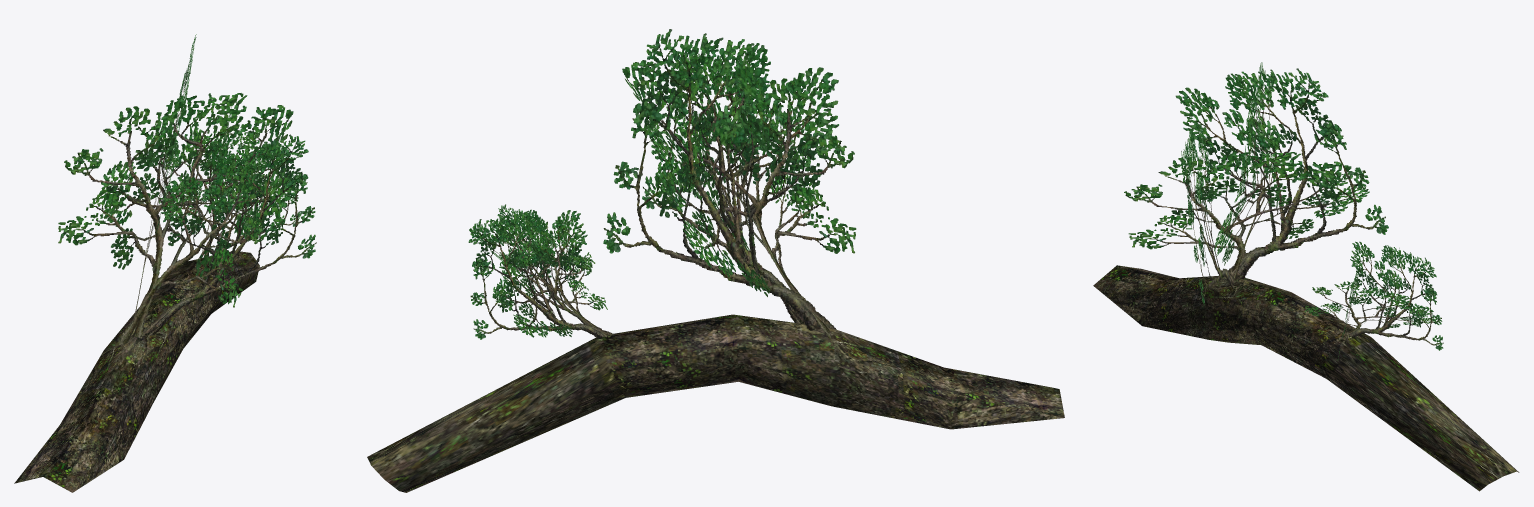
Rendered from c_swamp_tree03.glb.
The picture shows the model from 3 angles, left to right: view 1: azimuth 30°, elevation 25°; view 2: azimuth 150°, elevation 25°; view 3: azimuth 270°, elevation 25°; orthographic projection. The views are drawn at different scales.
Parts seen in each view (by area): view 1: C_swamp_tree03_02, C_swamp_tree03_03, C_swamp_tree03_01; view 2: C_swamp_tree03_03, C_swamp_tree03_01, C_swamp_tree03_02; view 3: C_swamp_tree03_03, C_swamp_tree03_01, C_swamp_tree03_02.
Part boxes in pixels (left/top/right/bottom): C_swamp_tree03_02: left=58, top=93, right=293, bottom=346; C_swamp_tree03_03: left=14, top=251, right=259, bottom=492; C_swamp_tree03_01: left=129, top=34, right=316, bottom=346; C_swamp_tree03_03: left=367, top=314, right=1064, bottom=492; C_swamp_tree03_01: left=468, top=29, right=838, bottom=339; C_swamp_tree03_02: left=469, top=51, right=856, bottom=341; C_swamp_tree03_03: left=1093, top=265, right=1519, bottom=491; C_swamp_tree03_01: left=1175, top=68, right=1443, bottom=360; C_swamp_tree03_02: left=1124, top=62, right=1434, bottom=334.
Bounding box in the file's own units: 11.16 × 9.46 × 9.82.
Materials: 3 (3 with a texture image).
